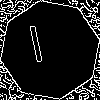I: (25, 25, 49, 72)
